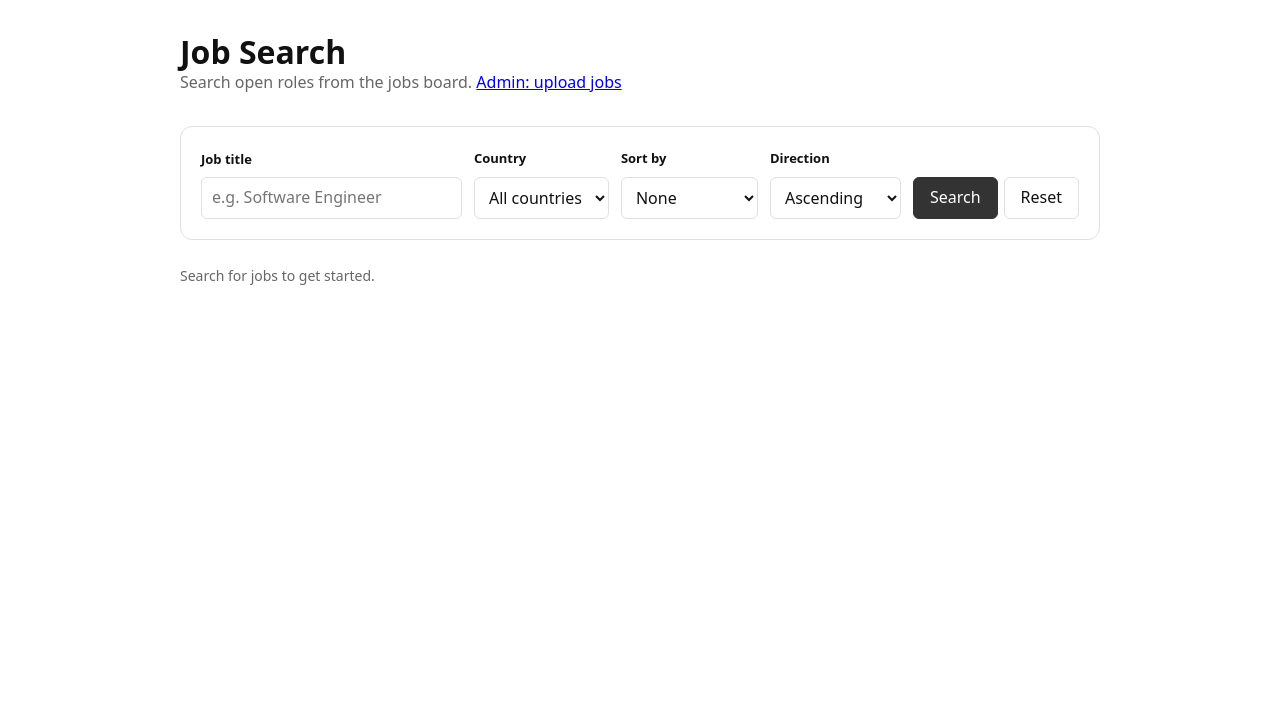
Test: App › fetches and displays jobs after submitting a search, with a range in the status message
Step 1. Click the button "Search" → [955, 198], box [913, 177, 998, 219]
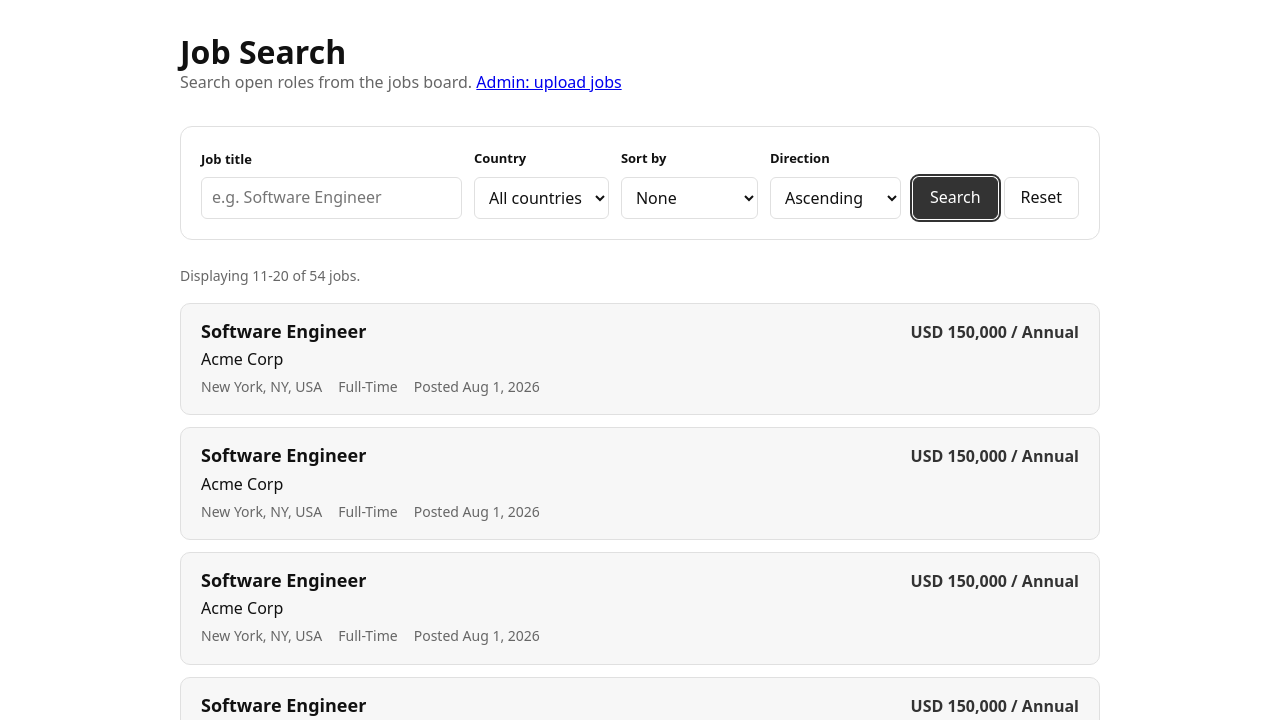
Now the message reads "Displaying 11-20 of 54 jobs.", box [180, 266, 360, 285]
Now the number of list items is 10
